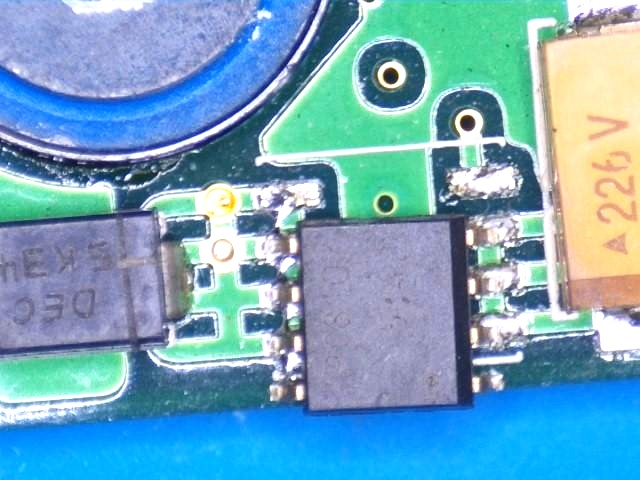pcb_defect: (255, 213, 528, 412), (254, 179, 323, 382)
